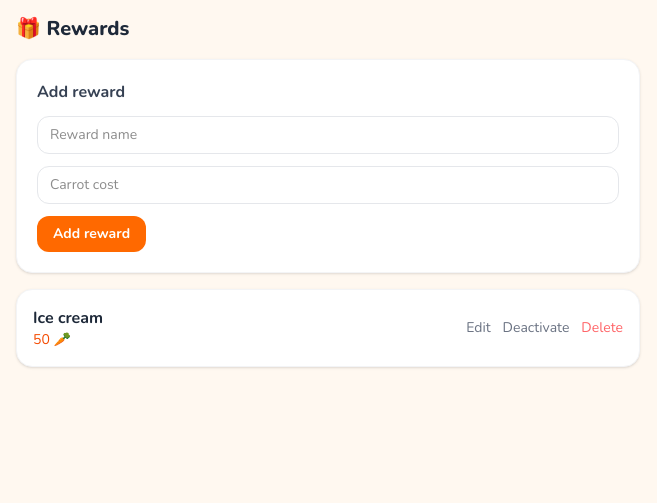
Test: RewardManager errors › clears errors when changing the edit Carrot cost
Expected: the text "Ice cream" is shown, [33,307,103,329]
In the field with placeholder "Reward name": (328, 135) [37,116,619,154], type "Screen time"
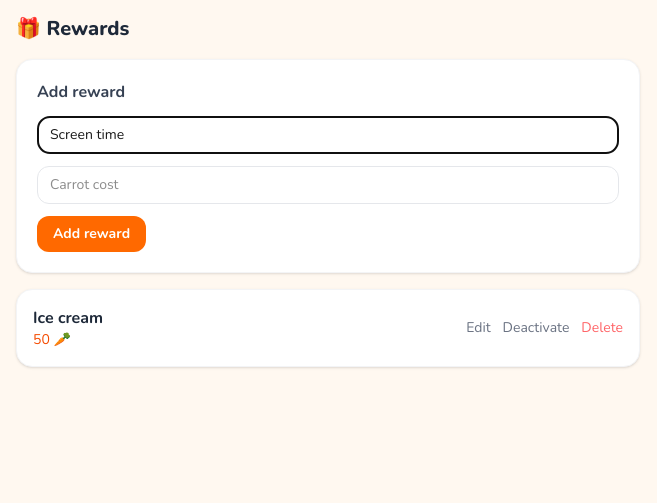
In the number field with placeholder "Carrot cost": (328, 185) [37,166,619,204], type "20"
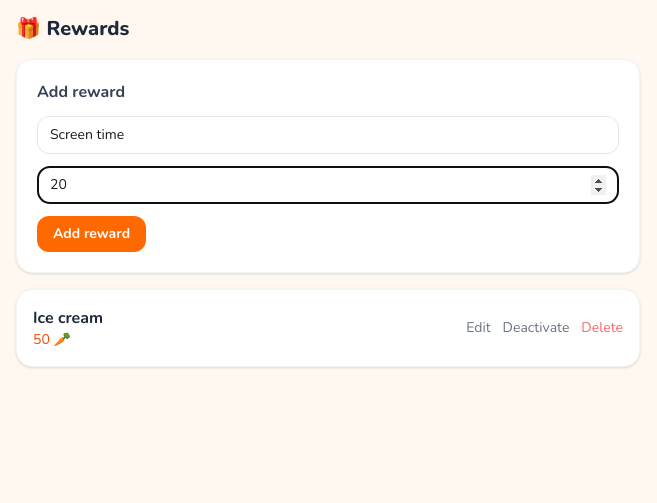
Click the button "Edit": (478, 328) [466,318,491,338]
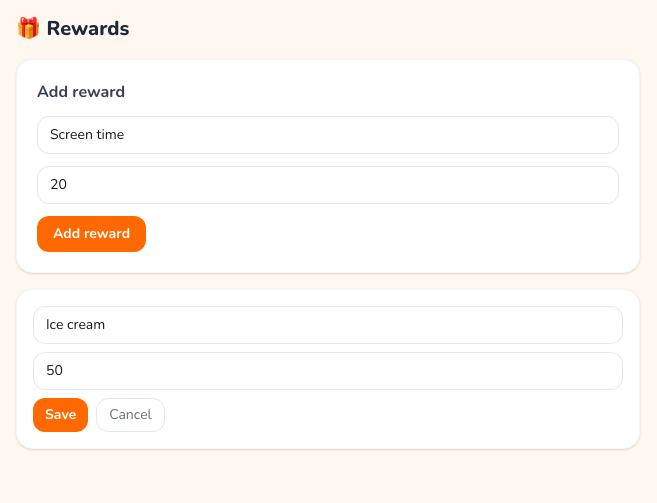
Click the button "Add reward": (92, 234) [37,216,146,252]
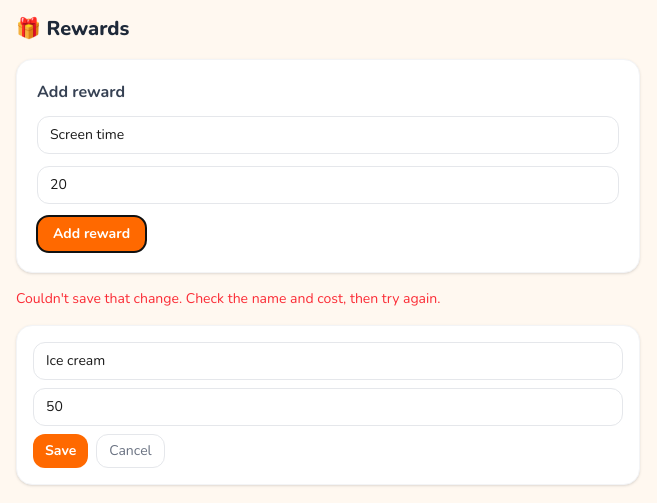
Expected: the message "Couldn't save that change. Check the name and cost, then try again." is shown, [16,289,440,308]
Clear the number field named "Carrot cost": (328, 407) [33,388,623,426]
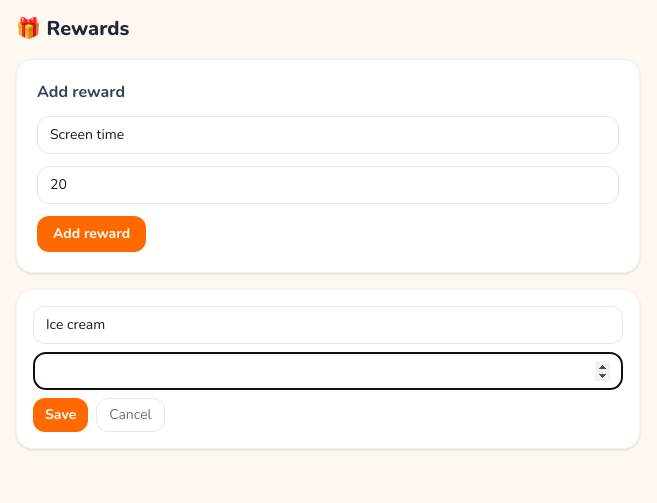
Expected: the message "Couldn't save that change. Check the name and cost, then try again." is gone
